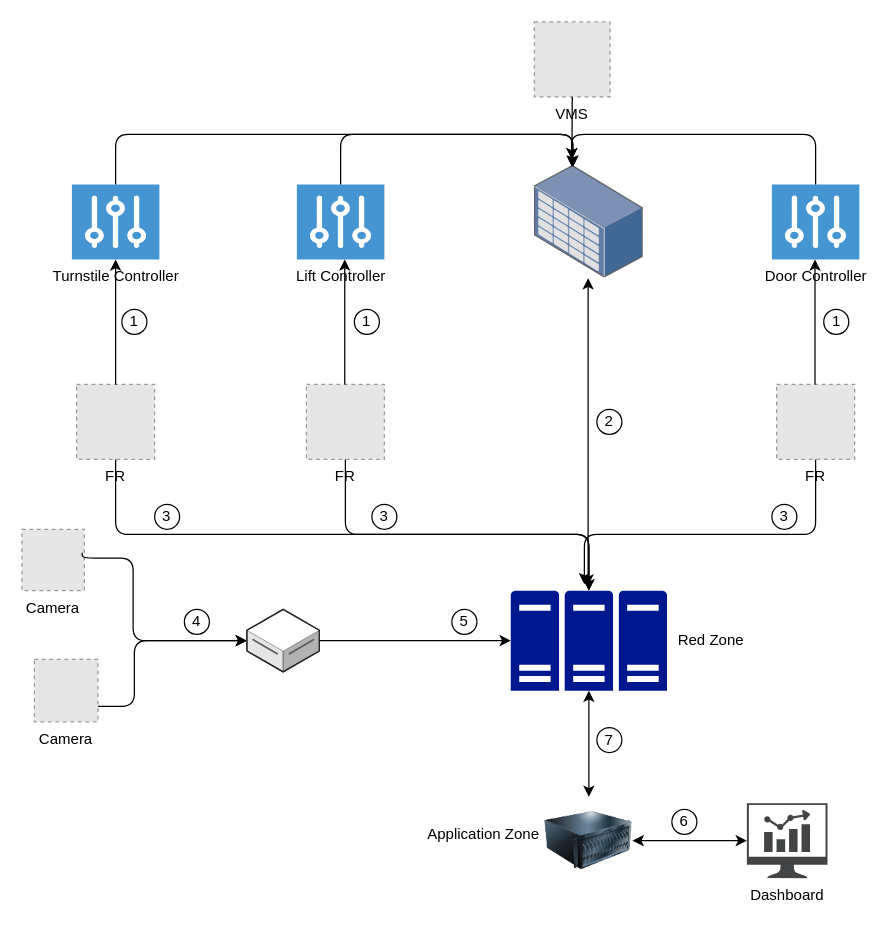
The diagram is 888 pixels wide and 933 high, and some of its shapes have lost their labels. Grey dashed boxes stand in for pictures. Each missing label, with the centre of its shape:
"Application Server" belongs at (x=588, y=840).
"FR Central Server(FRCS)" belongs at (x=588, y=640).
"IBSS" belongs at (x=588, y=221).
"Video Edgebox" belongs at (x=282, y=640).
